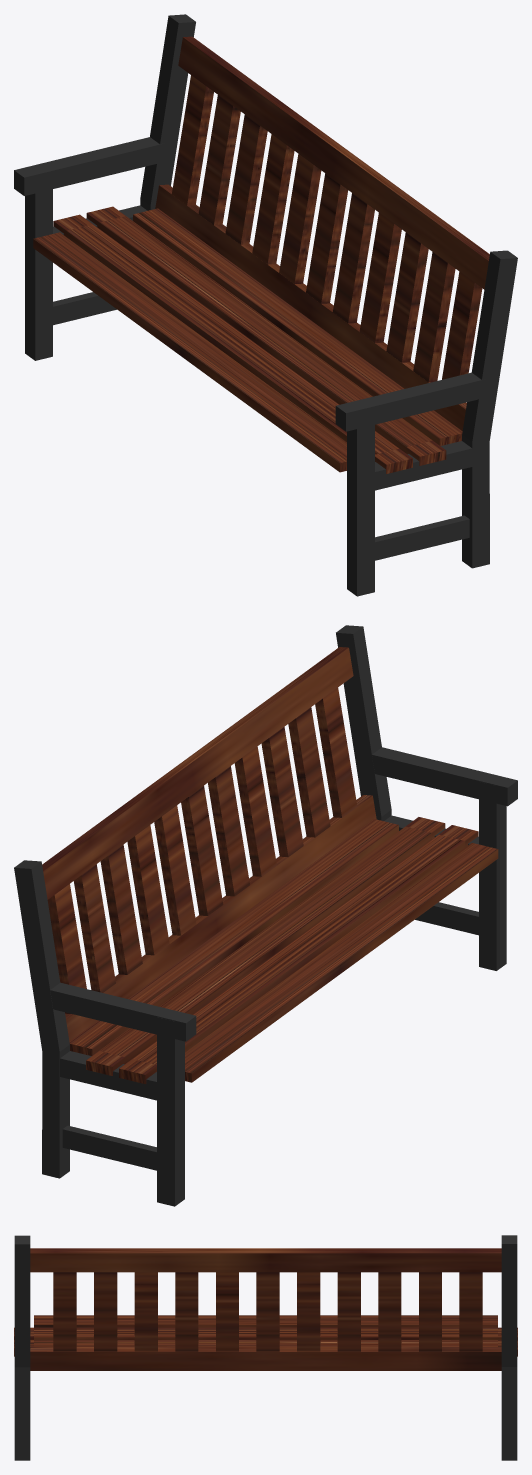
File: parkbench_final_64.glb
3 views of the same model, one above another, from view 1: azimuth 30°, elevation 25°; view 2: azimuth 150°, elevation 25°; view 3: azimuth 270°, elevation 25° (orthographic). The views are drawn at different scales.
Visible parts, largest first — view 1: parkbench; view 2: parkbench; view 3: parkbench.
Boxes of the visible parts, x1,y1,x2,y2 form: parkbench: (14,14,517,596); parkbench: (14,625,517,1206); parkbench: (14,1235,517,1460).
Size of the model in its own units: 0.9721 by 1.63 by 3.26.
Materials: 2 (1 with a texture image).
